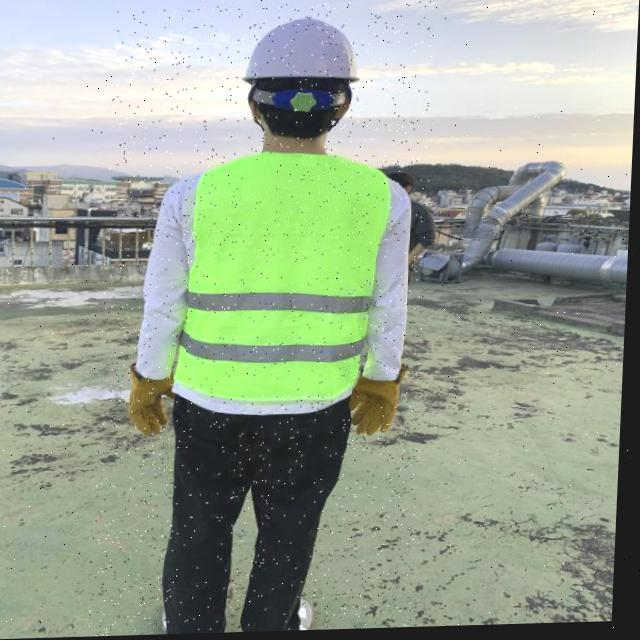Gloves: (352, 367, 413, 439), (130, 362, 180, 438)
Helmet: (241, 17, 365, 110)
Safety-Vest: (174, 150, 396, 419)
